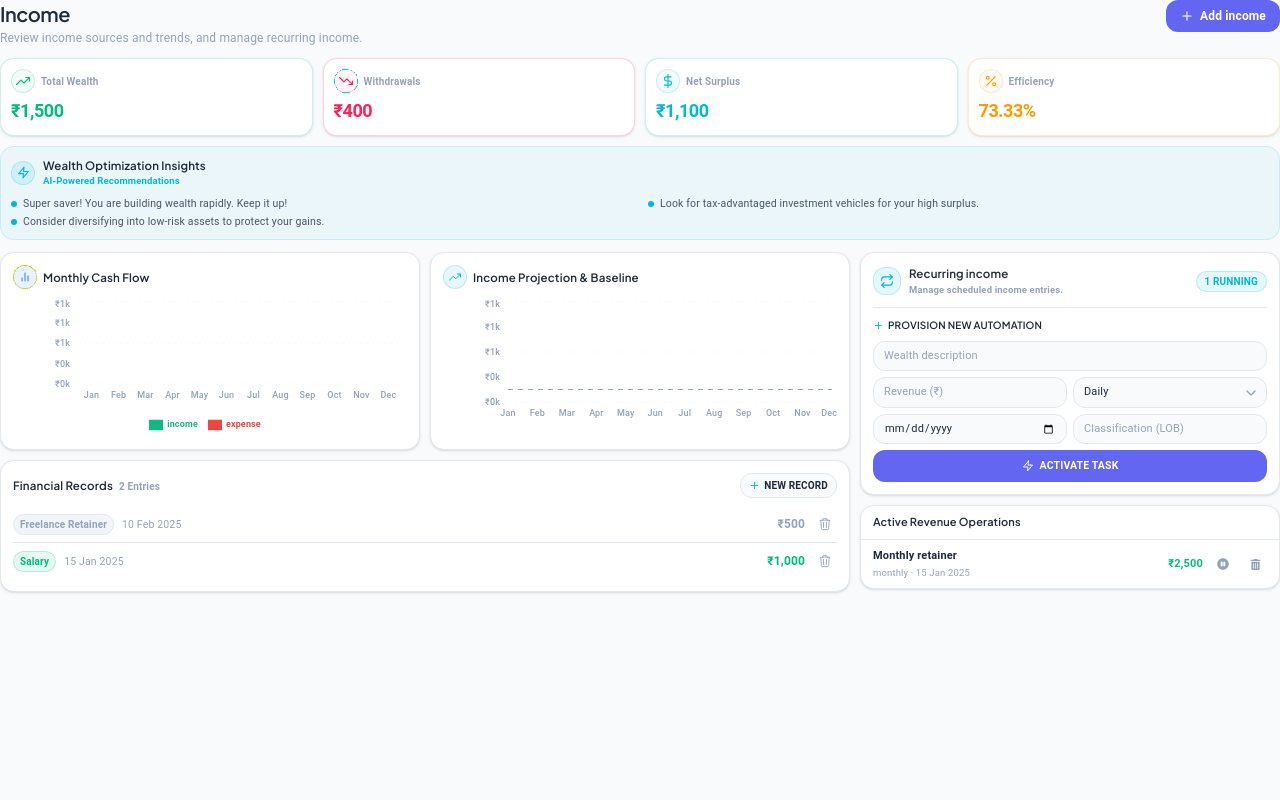
Test case: UserIncome › blocks the income dialog submit while required fields are empty
The width and height of the screenshot is (1280, 800).
Expected: the text "Total Wealth" is shown, [41, 74, 98, 88]
Click the button "Add income".
click(1223, 16)  # box [1166, 0, 1279, 32]
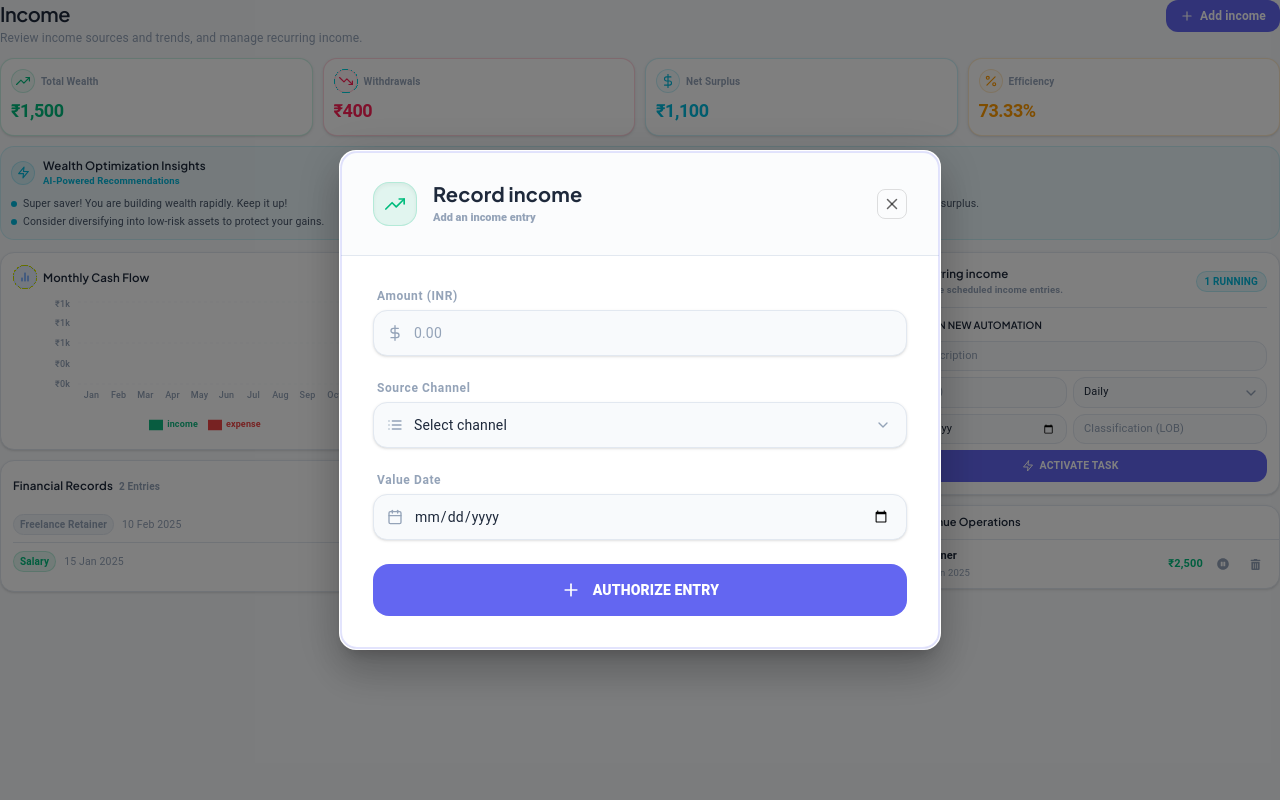
Click the button "AUTHORIZE ENTRY".
click(640, 590)  # box [373, 564, 907, 616]
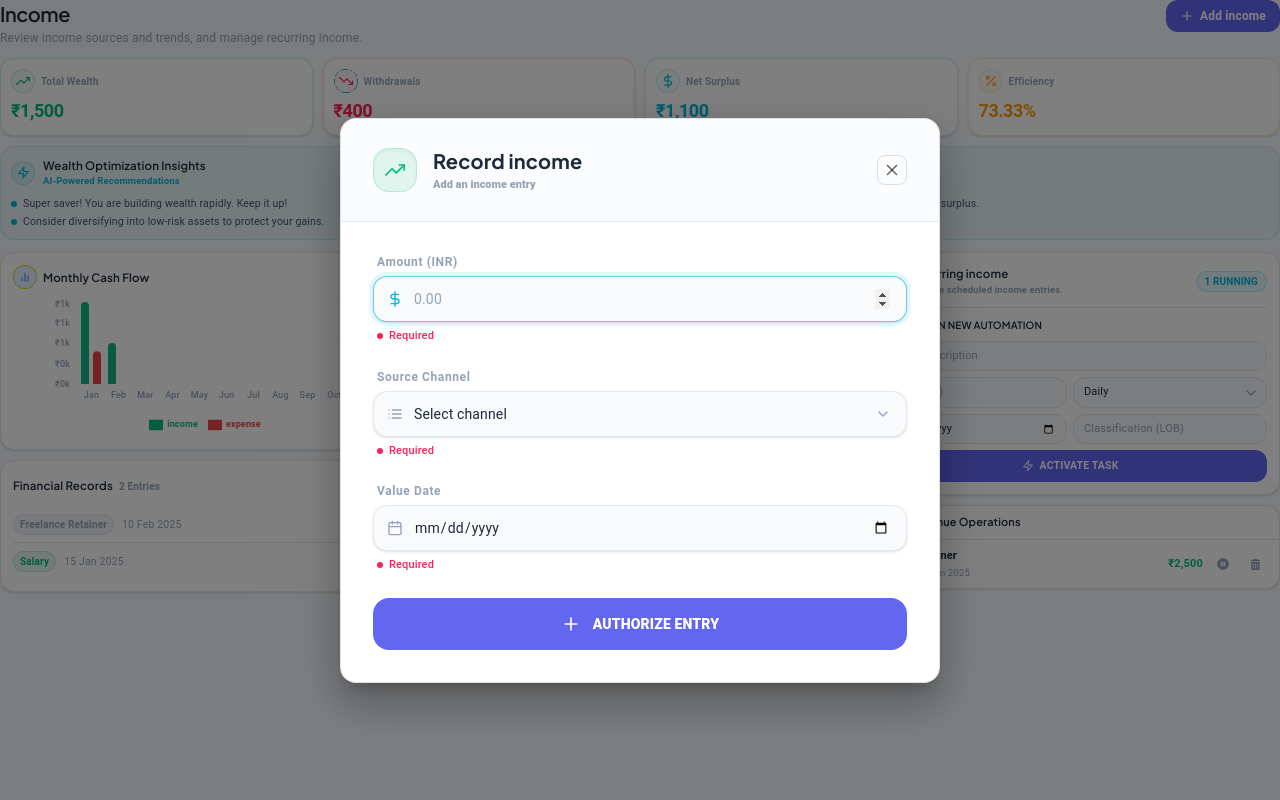
Expected: the text "Required" is shown 3 times, [377, 329, 434, 342]; [377, 444, 434, 456]; [377, 558, 434, 571]
